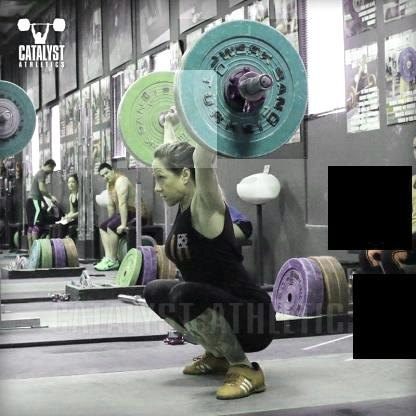barbell: (179, 20, 308, 160), (118, 72, 218, 170)
